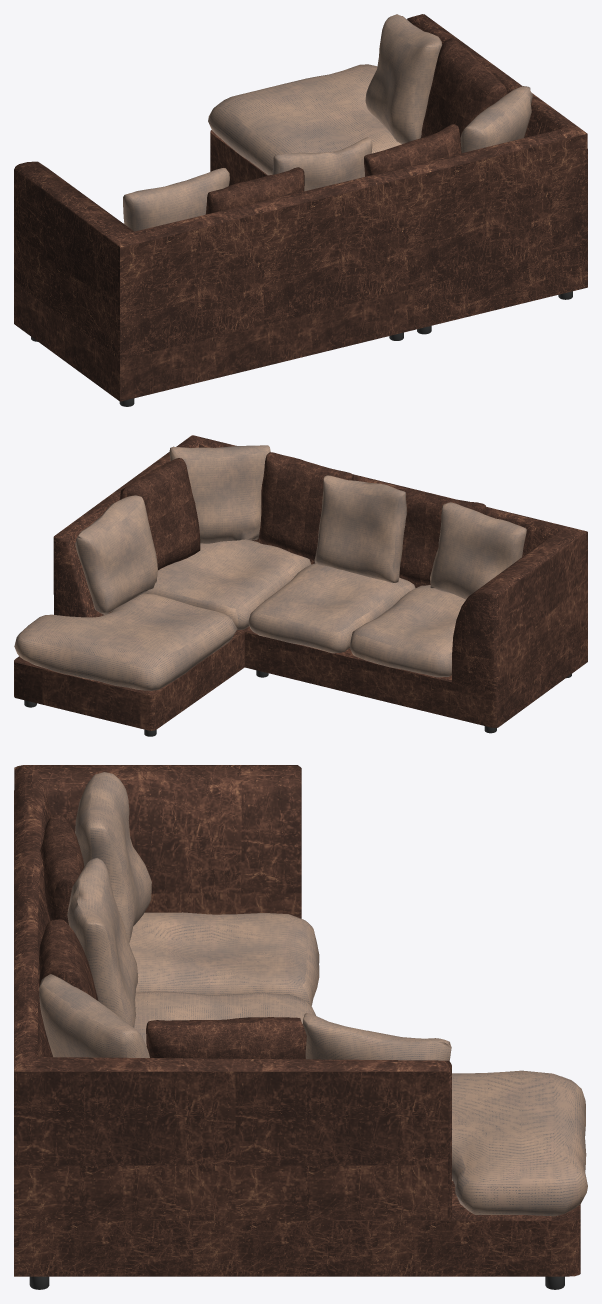
The model's file is sofa 2.glb.
3 views of the same model, one above another, from view 1: azimuth 30°, elevation 25°; view 2: azimuth 150°, elevation 25°; view 3: azimuth 270°, elevation 25° (orthographic). The views are drawn at different scales.
Visible parts, largest first — view 1: Cube.005, Cube, Cube.044, Cube.011, Cube.061, Cube.059, Cube.047, Cube.058, Cube.045, Cube.048, Cube.046; view 2: Cube.005, Cube.044, Cube, Cube.011, Cube.010, Cube.043, Cube.045, Cube.009, Cube.058, Cube.061, Cube.047, Cube.048 (+2 smaller); view 3: Cube.005, Cube.011, Cube.044, Cube.009, Cube.045, Cube.047, Cube.059, Cube.058, Cube.010, Cube.061, Cube.046, Cube.048.
Boxes of the visible parts, left/top/right/bottom form: Cube.005: left=14, top=14, right=587, bottom=359; Cube: left=14, top=282, right=414, bottom=401; Cube.044: left=208, top=64, right=401, bottom=175; Cube.011: left=210, top=130, right=587, bottom=329; Cube.061: left=365, top=14, right=442, bottom=143; Cube.059: left=421, top=38, right=507, bottom=137; Cube.047: left=123, top=168, right=229, bottom=231; Cube.058: left=460, top=86, right=532, bottom=152; Cube.045: left=272, top=137, right=372, bottom=191; Cube.048: left=364, top=124, right=461, bottom=176; Cube.046: left=205, top=167, right=304, bottom=214; Cube.005: left=53, top=435, right=587, bottom=692; Cube.044: left=14, top=593, right=237, bottom=690; Cube: left=244, top=626, right=587, bottom=727; Cube.011: left=14, top=626, right=249, bottom=730; Cube.010: left=248, top=563, right=415, bottom=653; Cube.043: left=143, top=539, right=311, bottom=629; Cube.045: left=314, top=475, right=406, bottom=582; Cube.009: left=349, top=585, right=465, bottom=677; Cube.058: left=169, top=445, right=270, bottom=543; Cube.061: left=75, top=495, right=157, bottom=614; Cube.047: left=430, top=502, right=526, bottom=599; Cube.048: left=258, top=452, right=353, bottom=560; Cube.005: left=14, top=765, right=451, bottom=1220; Cube.011: left=14, top=1181, right=580, bottom=1276; Cube.044: left=452, top=1070, right=587, bottom=1216; Cube.009: left=129, top=912, right=319, bottom=1005; Cube.045: left=67, top=857, right=138, bottom=1027; Cube.047: left=75, top=772, right=151, bottom=943; Cube.059: left=146, top=1017, right=306, bottom=1059; Cube.058: left=39, top=974, right=149, bottom=1057; Cube.010: left=134, top=991, right=315, bottom=1045; Cube.061: left=302, top=1013, right=451, bottom=1060; Cube.046: left=40, top=814, right=84, bottom=924; Cube.048: left=39, top=919, right=98, bottom=1000.
Size of the model in its own units: 212 by 82 by 168.
13 materials, 12 textured.
